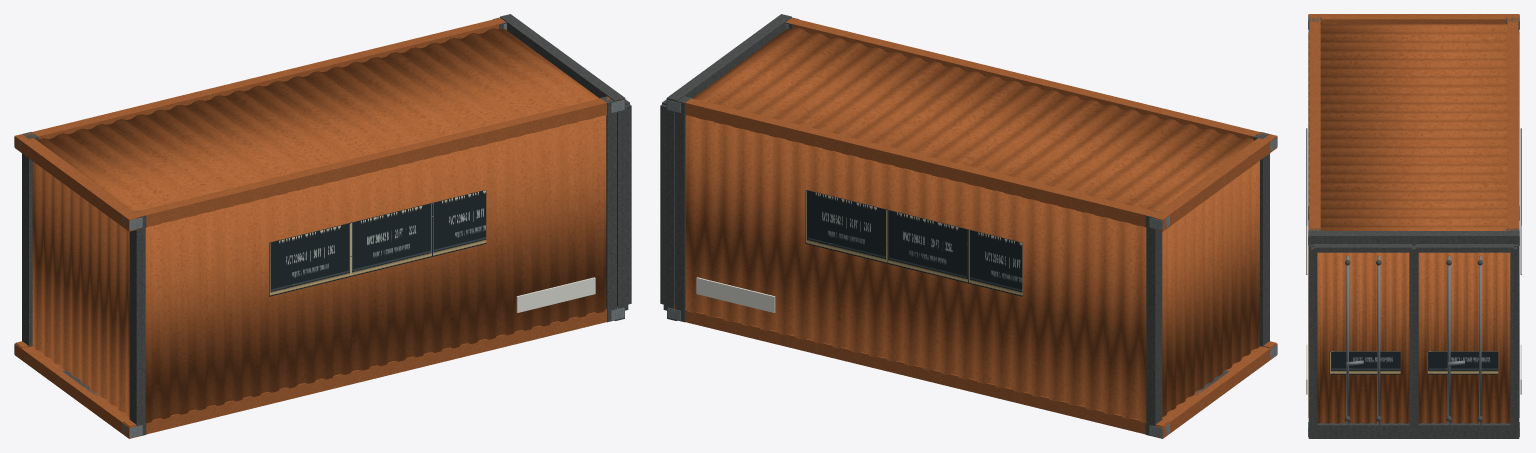
Rendered from PROJECT_Z_20ft_Container_Standalone.glb.
3 views of the same model, side by side, from view 1: azimuth 30°, elevation 25°; view 2: azimuth 150°, elevation 25°; view 3: azimuth 270°, elevation 25° (orthographic). The views are drawn at different scales.
Parts seen in each view (by area): view 1: CTR_L_FoldedSideWall, CTR_CorrugatedRoofSheet, CTR_ClosedFrontCorrugatedEnd, CTR_L_CompanyLogo, CTR_L_UpperRail, CTR_L_LowerRail, CTR_R_UpperRail, CTR_L_CornerPost_0, CTR_FrontTopCrossbar, CTR_FrontBottomCrossbar, CTR_RearDoorJamb_L, CTR_L_CornerPost_1 (+4 smaller); view 2: CTR_R_FoldedSideWall, CTR_CorrugatedRoofSheet, CTR_ClosedFrontCorrugatedEnd, CTR_R_CompanyLogo, CTR_R_UpperRail, CTR_R_LowerRail, CTR_L_UpperRail, CTR_R_CornerPost_0, CTR_FrontTopCrossbar, CTR_RearDoorJamb_R, CTR_FrontBottomCrossbar, CTR_R_CornerPost_1 (+4 smaller); view 3: CTR_CorrugatedRoofSheet, CTR_Rear_LEFT_CorrugatedLeaf, CTR_Rear_RIGHT_CorrugatedLeaf, CTR_RearTopHeader, CTR_L_UpperRail, CTR_R_UpperRail, CTR_FrontTopCrossbar, CTR_LEFT_DoorSmallSign, CTR_RIGHT_DoorSmallSign, CTR_RearSill, CTR_RIGHT_DoorFrame_inner, CTR_LEFT_DoorFrame_outer (+16 smaller).
Boxes of the visible parts, x1=… form: CTR_L_FoldedSideWall: x1=145, y1=115, x2=606, y2=423; CTR_CorrugatedRoofSheet: x1=38, y1=28, x2=599, y2=211; CTR_ClosedFrontCorrugatedEnd: x1=32, y1=161, x2=129, y2=417; CTR_L_CompanyLogo: x1=269, y1=190, x2=486, y2=296; CTR_L_UpperRail: x1=124, y1=96, x2=609, y2=226; CTR_L_LowerRail: x1=123, y1=306, x2=617, y2=434; CTR_R_UpperRail: x1=16, y1=18, x2=505, y2=140; CTR_L_CornerPost_0: x1=129, y1=210, x2=146, y2=436; CTR_FrontTopCrossbar: x1=14, y1=134, x2=140, y2=231; CTR_FrontBottomCrossbar: x1=14, y1=343, x2=136, y2=438; CTR_RearDoorJamb_L: x1=617, y1=104, x2=628, y2=310; CTR_L_CornerPost_1: x1=600, y1=96, x2=616, y2=322; CTR_R_FoldedSideWall: x1=685, y1=115, x2=1146, y2=423; CTR_CorrugatedRoofSheet: x1=692, y1=28, x2=1253, y2=211; CTR_ClosedFrontCorrugatedEnd: x1=1162, y1=161, x2=1259, y2=416; CTR_R_CompanyLogo: x1=805, y1=190, x2=1022, y2=296; CTR_R_UpperRail: x1=685, y1=98, x2=1168, y2=226; CTR_R_LowerRail: x1=674, y1=306, x2=1168, y2=434; CTR_L_UpperRail: x1=786, y1=18, x2=1275, y2=140; CTR_R_CornerPost_0: x1=1145, y1=210, x2=1162, y2=436; CTR_FrontTopCrossbar: x1=1152, y1=134, x2=1277, y2=231; CTR_RearDoorJamb_R: x1=663, y1=104, x2=674, y2=310; CTR_FrontBottomCrossbar: x1=1155, y1=343, x2=1277, y2=438; CTR_R_CornerPost_1: x1=675, y1=96, x2=691, y2=322; CTR_CorrugatedRoofSheet: x1=1320, y1=24, x2=1507, y2=230; CTR_Rear_LEFT_CorrugatedLeaf: x1=1317, y1=252, x2=1409, y2=423; CTR_Rear_RIGHT_CorrugatedLeaf: x1=1418, y1=252, x2=1510, y2=423; CTR_RearTopHeader: x1=1308, y1=231, x2=1519, y2=245; CTR_L_UpperRail: x1=1309, y1=14, x2=1320, y2=230; CTR_R_UpperRail: x1=1507, y1=14, x2=1518, y2=230; CTR_FrontTopCrossbar: x1=1308, y1=14, x2=1519, y2=24; CTR_LEFT_DoorSmallSign: x1=1329, y1=351, x2=1400, y2=374; CTR_RIGHT_DoorSmallSign: x1=1427, y1=351, x2=1498, y2=374; CTR_RearSill: x1=1308, y1=431, x2=1519, y2=438; CTR_RIGHT_DoorFrame_inner: x1=1510, y1=247, x2=1516, y2=431; CTR_LEFT_DoorFrame_outer: x1=1311, y1=247, x2=1317, y2=431.
Bounding box in the file's own units: 6.29 × 2.59 × 2.49.
6 materials, 5 textured.
